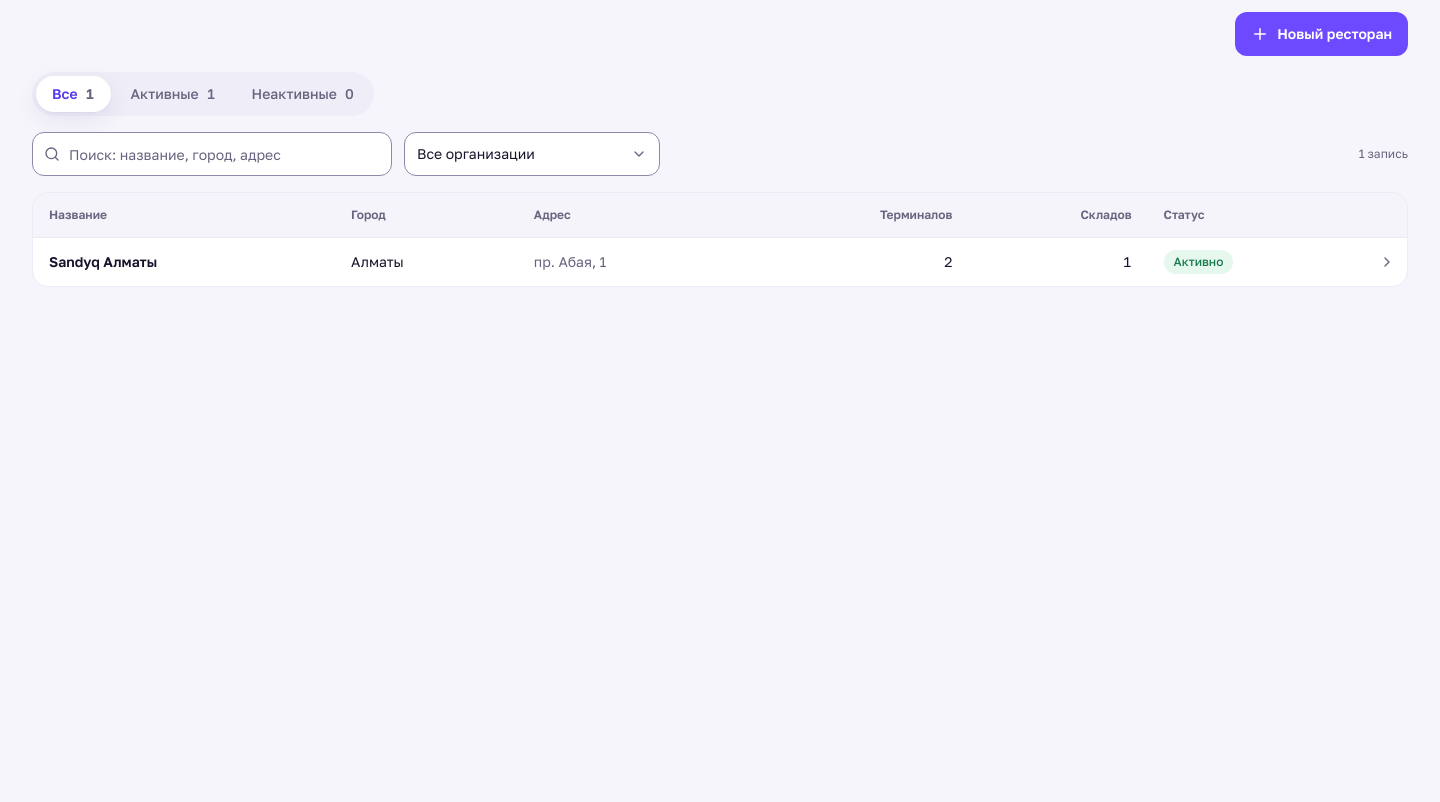
it: «Рестораны» (W2-ADM-07) › an iiko restaurant keeps name, address, zone and organization read-only
This screenshot has width=1440, height=802.
Click the text "Sandyq Алматы". click: (103, 261)
box: x1=49 y1=252 x2=157 y2=270
(page scrolled)
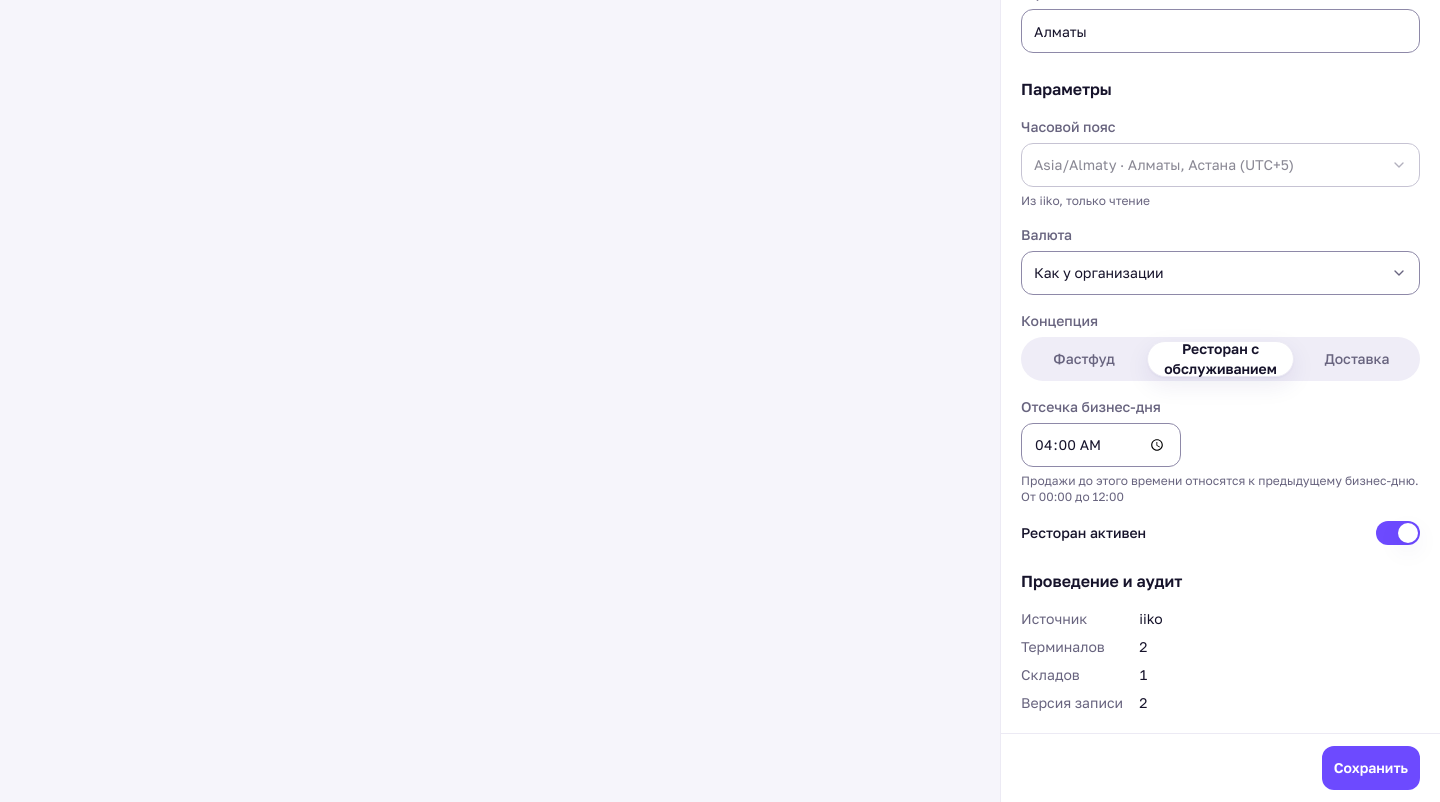
Now the text "Из iiko, только чтение" is shown 4 times
Now the time field labelled "Отсечка бизнес-дня" is enabled, box x1=1021 y1=423 x2=1181 y2=467
